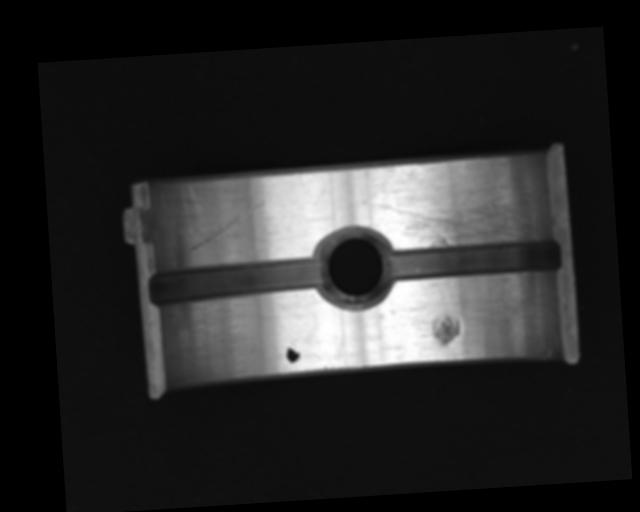blot: (285, 341, 301, 364)
bruise: (428, 313, 461, 346)
gap: (144, 256, 324, 308), (384, 236, 564, 284)
hole: (313, 224, 397, 313)
nick: (184, 199, 268, 254)
scratch: (376, 172, 546, 251)
